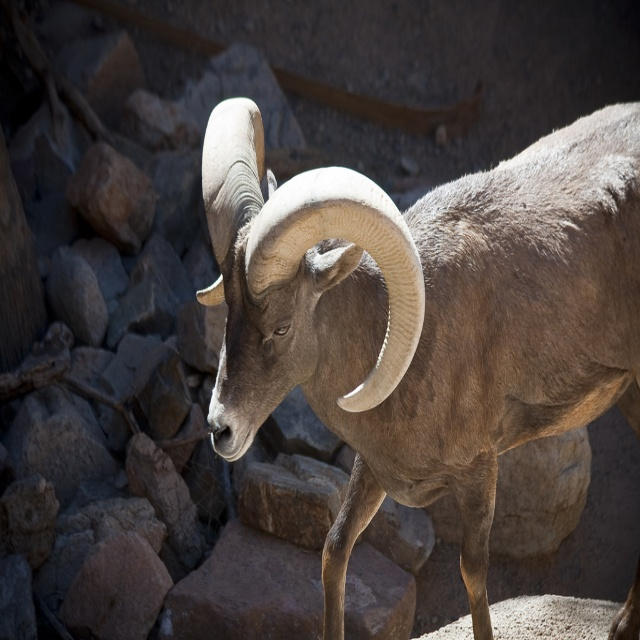Goat: (196, 98, 640, 640)
